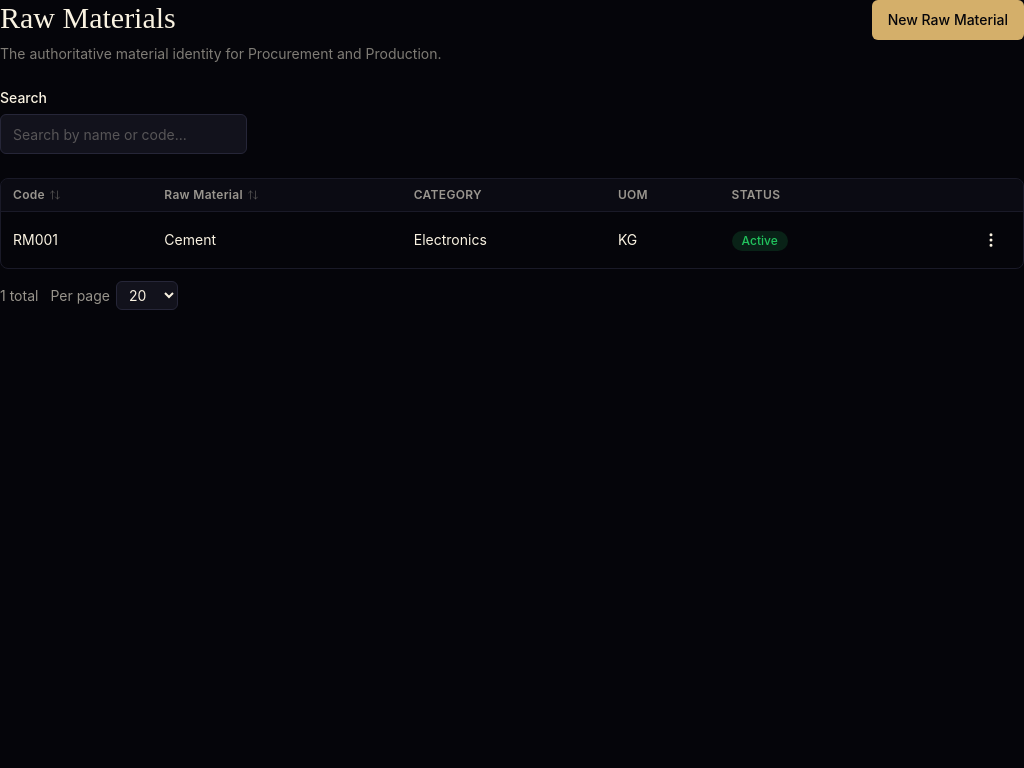
Test: RawMaterialsPage › opens the Manage Suppliers dialog and shows an empty state when none are linked
Expected: the text "Cement" is shown, x1=152 y1=212 x2=402 y2=268
Click the button named "Actions for".
click(991, 240)  # box x1=971 y1=220 x2=1011 y2=260
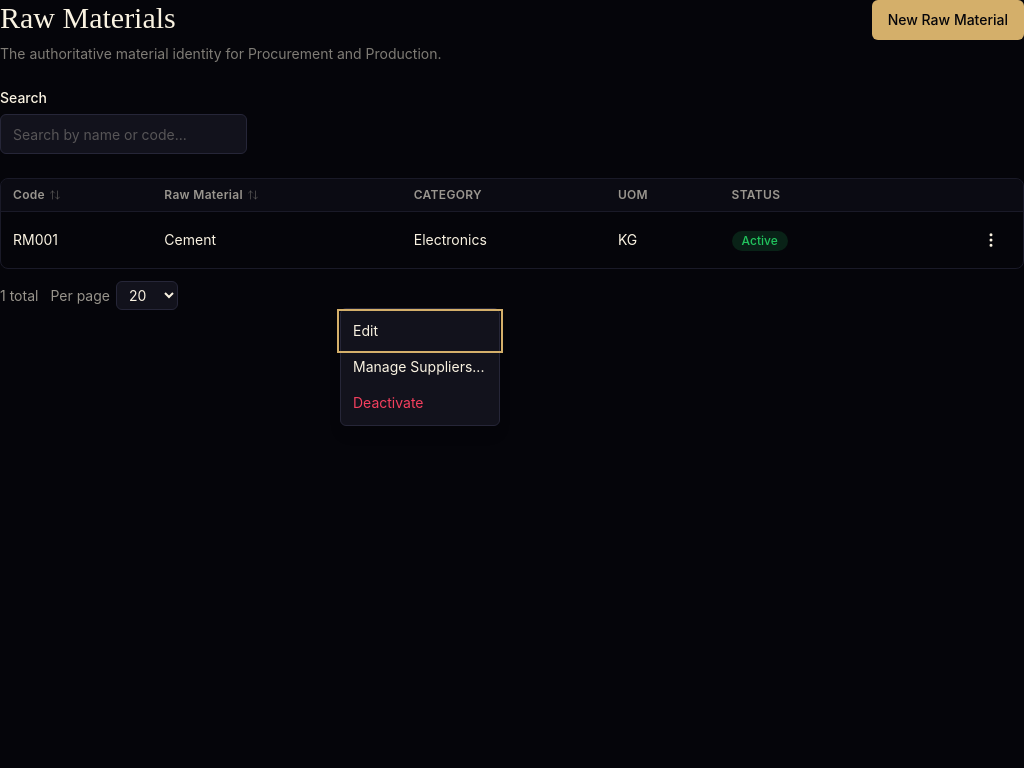
Click the menu item "Manage Suppliers...".
click(420, 367)  # box x1=341 y1=349 x2=499 y2=385
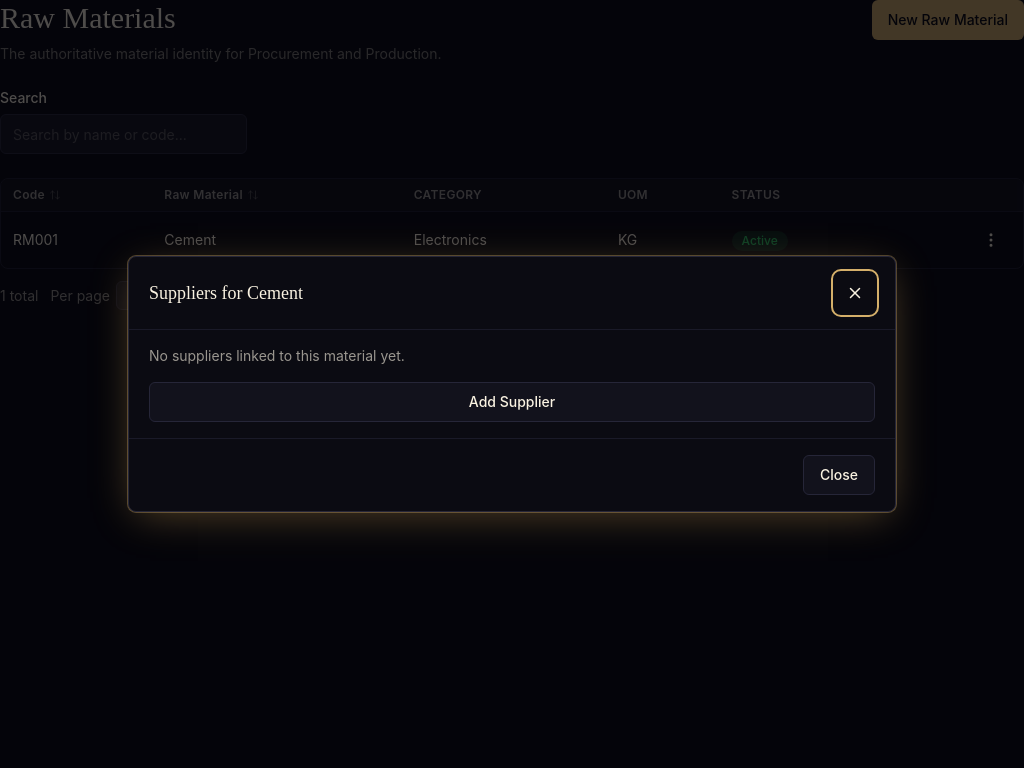
Expected: the text "No suppliers linked to this material yet." is shown, x1=149 y1=347 x2=405 y2=364
